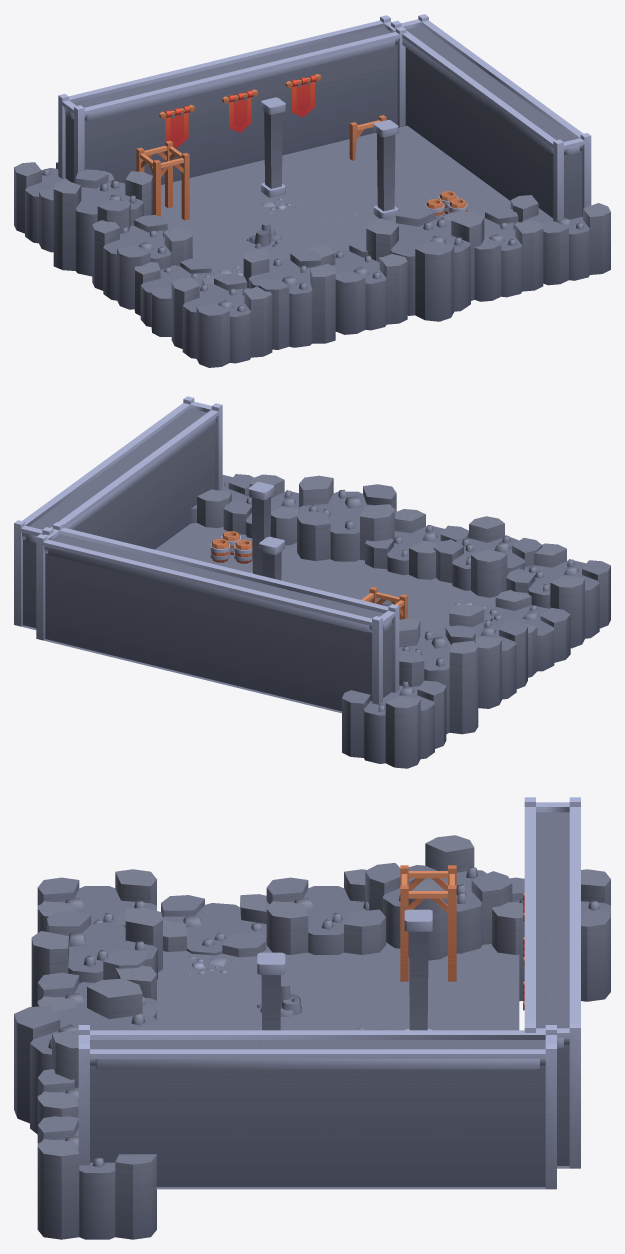
The model's file is Lesson 3 Physics and Collisions.glb.
3 views of the same model, one above another, from view 1: azimuth 30°, elevation 25°; view 2: azimuth 150°, elevation 25°; view 3: azimuth 270°, elevation 25° (orthographic). The views are drawn at different scales.
Parts seen in each view (by area): view 1: wall.003, wall.001, rocks.004, rocks.001, rocks.002, rocks.013, rocks.003, rocks.014, rocks.005, rocks.006, rocks.015, rocks.007 (+37 smaller); view 2: wall.003, wall.001, rocks.007, rocks.004, rocks.013, rocks.001, rocks.002, rocks.014, rocks.003, rocks.015, rocks.005, rocks.006 (+8 smaller); view 3: wall.001, wall.003, rocks.006, rocks.013, rocks.004, rocks.014, rocks.002, rocks.007, rocks.015, rocks.001, wood-structure.001, rocks.003 (+23 smaller).
Part boxes in pixels (x1,y1,x2,y2): wall.003: (58,15,406,185); wall.001: (391,14,591,222); rocks.004: (366,205,484,321); rocks.001: (171,273,272,367); rocks.002: (243,249,335,349); rocks.013: (53,169,152,276); rocks.003: (307,240,407,334); rocks.014: (92,215,192,309); rocks.005: (443,207,543,301); rocks.006: (510,195,610,285); rocks.015: (134,258,220,336); rocks.007: (14,162,114,252); wall.003: (36,522,399,713); wall.001: (14,396,222,630); rocks.007: (342,680,446,768); rocks.004: (297,475,396,561); rocks.013: (399,618,478,734); rocks.001: (506,543,610,648); rocks.002: (433,516,542,597); rocks.014: (430,604,527,708); rocks.003: (365,509,468,579); rocks.015: (484,590,570,677); rocks.005: (223,474,298,545); rocks.006: (190,474,253,528); wall.001: (78,1025,556,1189); wall.003: (524,797,580,1168); rocks.006: (37,1116,156,1239); rocks.013: (365,835,512,960); rocks.004: (14,978,178,1134); rocks.014: (266,869,385,954); rocks.002: (31,908,162,1006); rocks.007: (492,869,610,1001); rocks.015: (161,894,269,957); rocks.001: (37,869,156,932); wood-structure.001: (400,865,456,981); rocks.003: (37,965,156,1019).
Bounding box in the file's own units: 23.82 × 6.93 × 20.49.
Materials: 10 (10 with a texture image).
